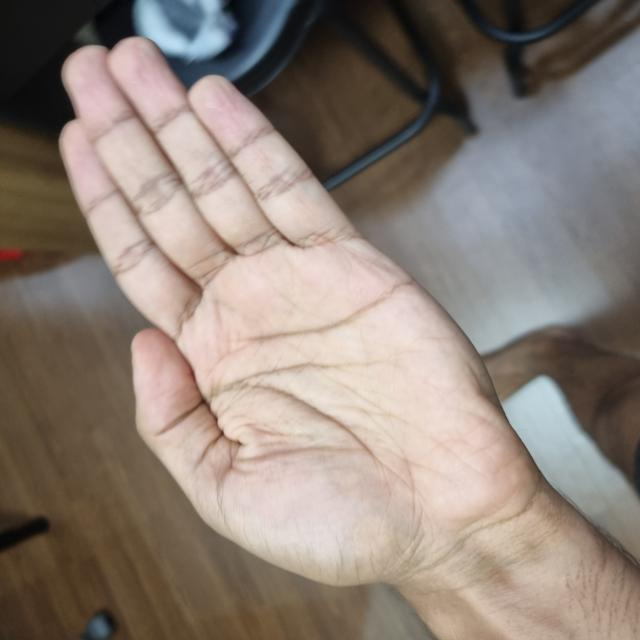Paper: (66, 62, 602, 505)
